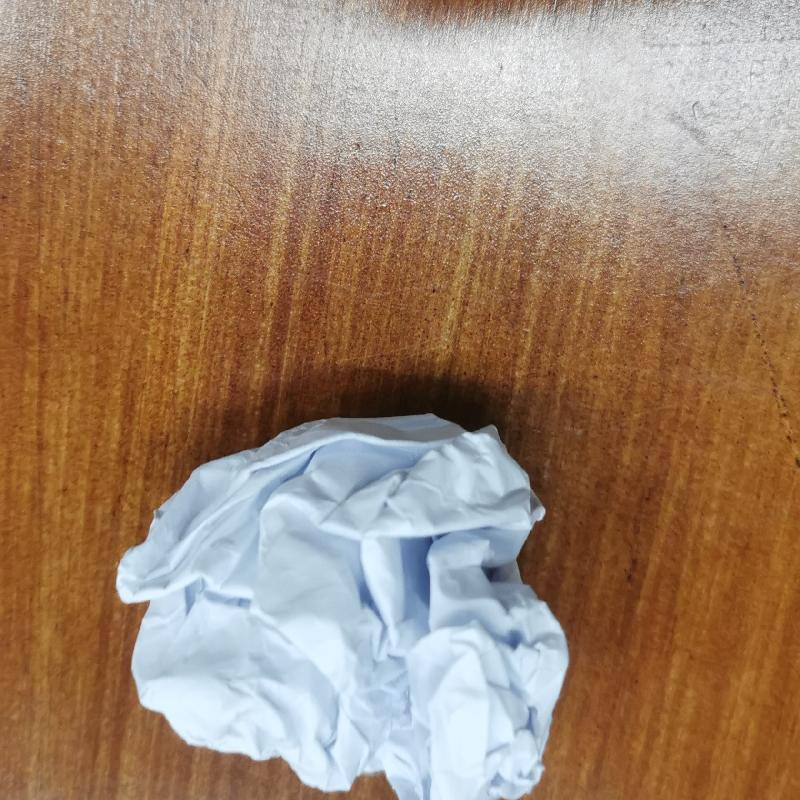spitball: (113, 409, 572, 800)
